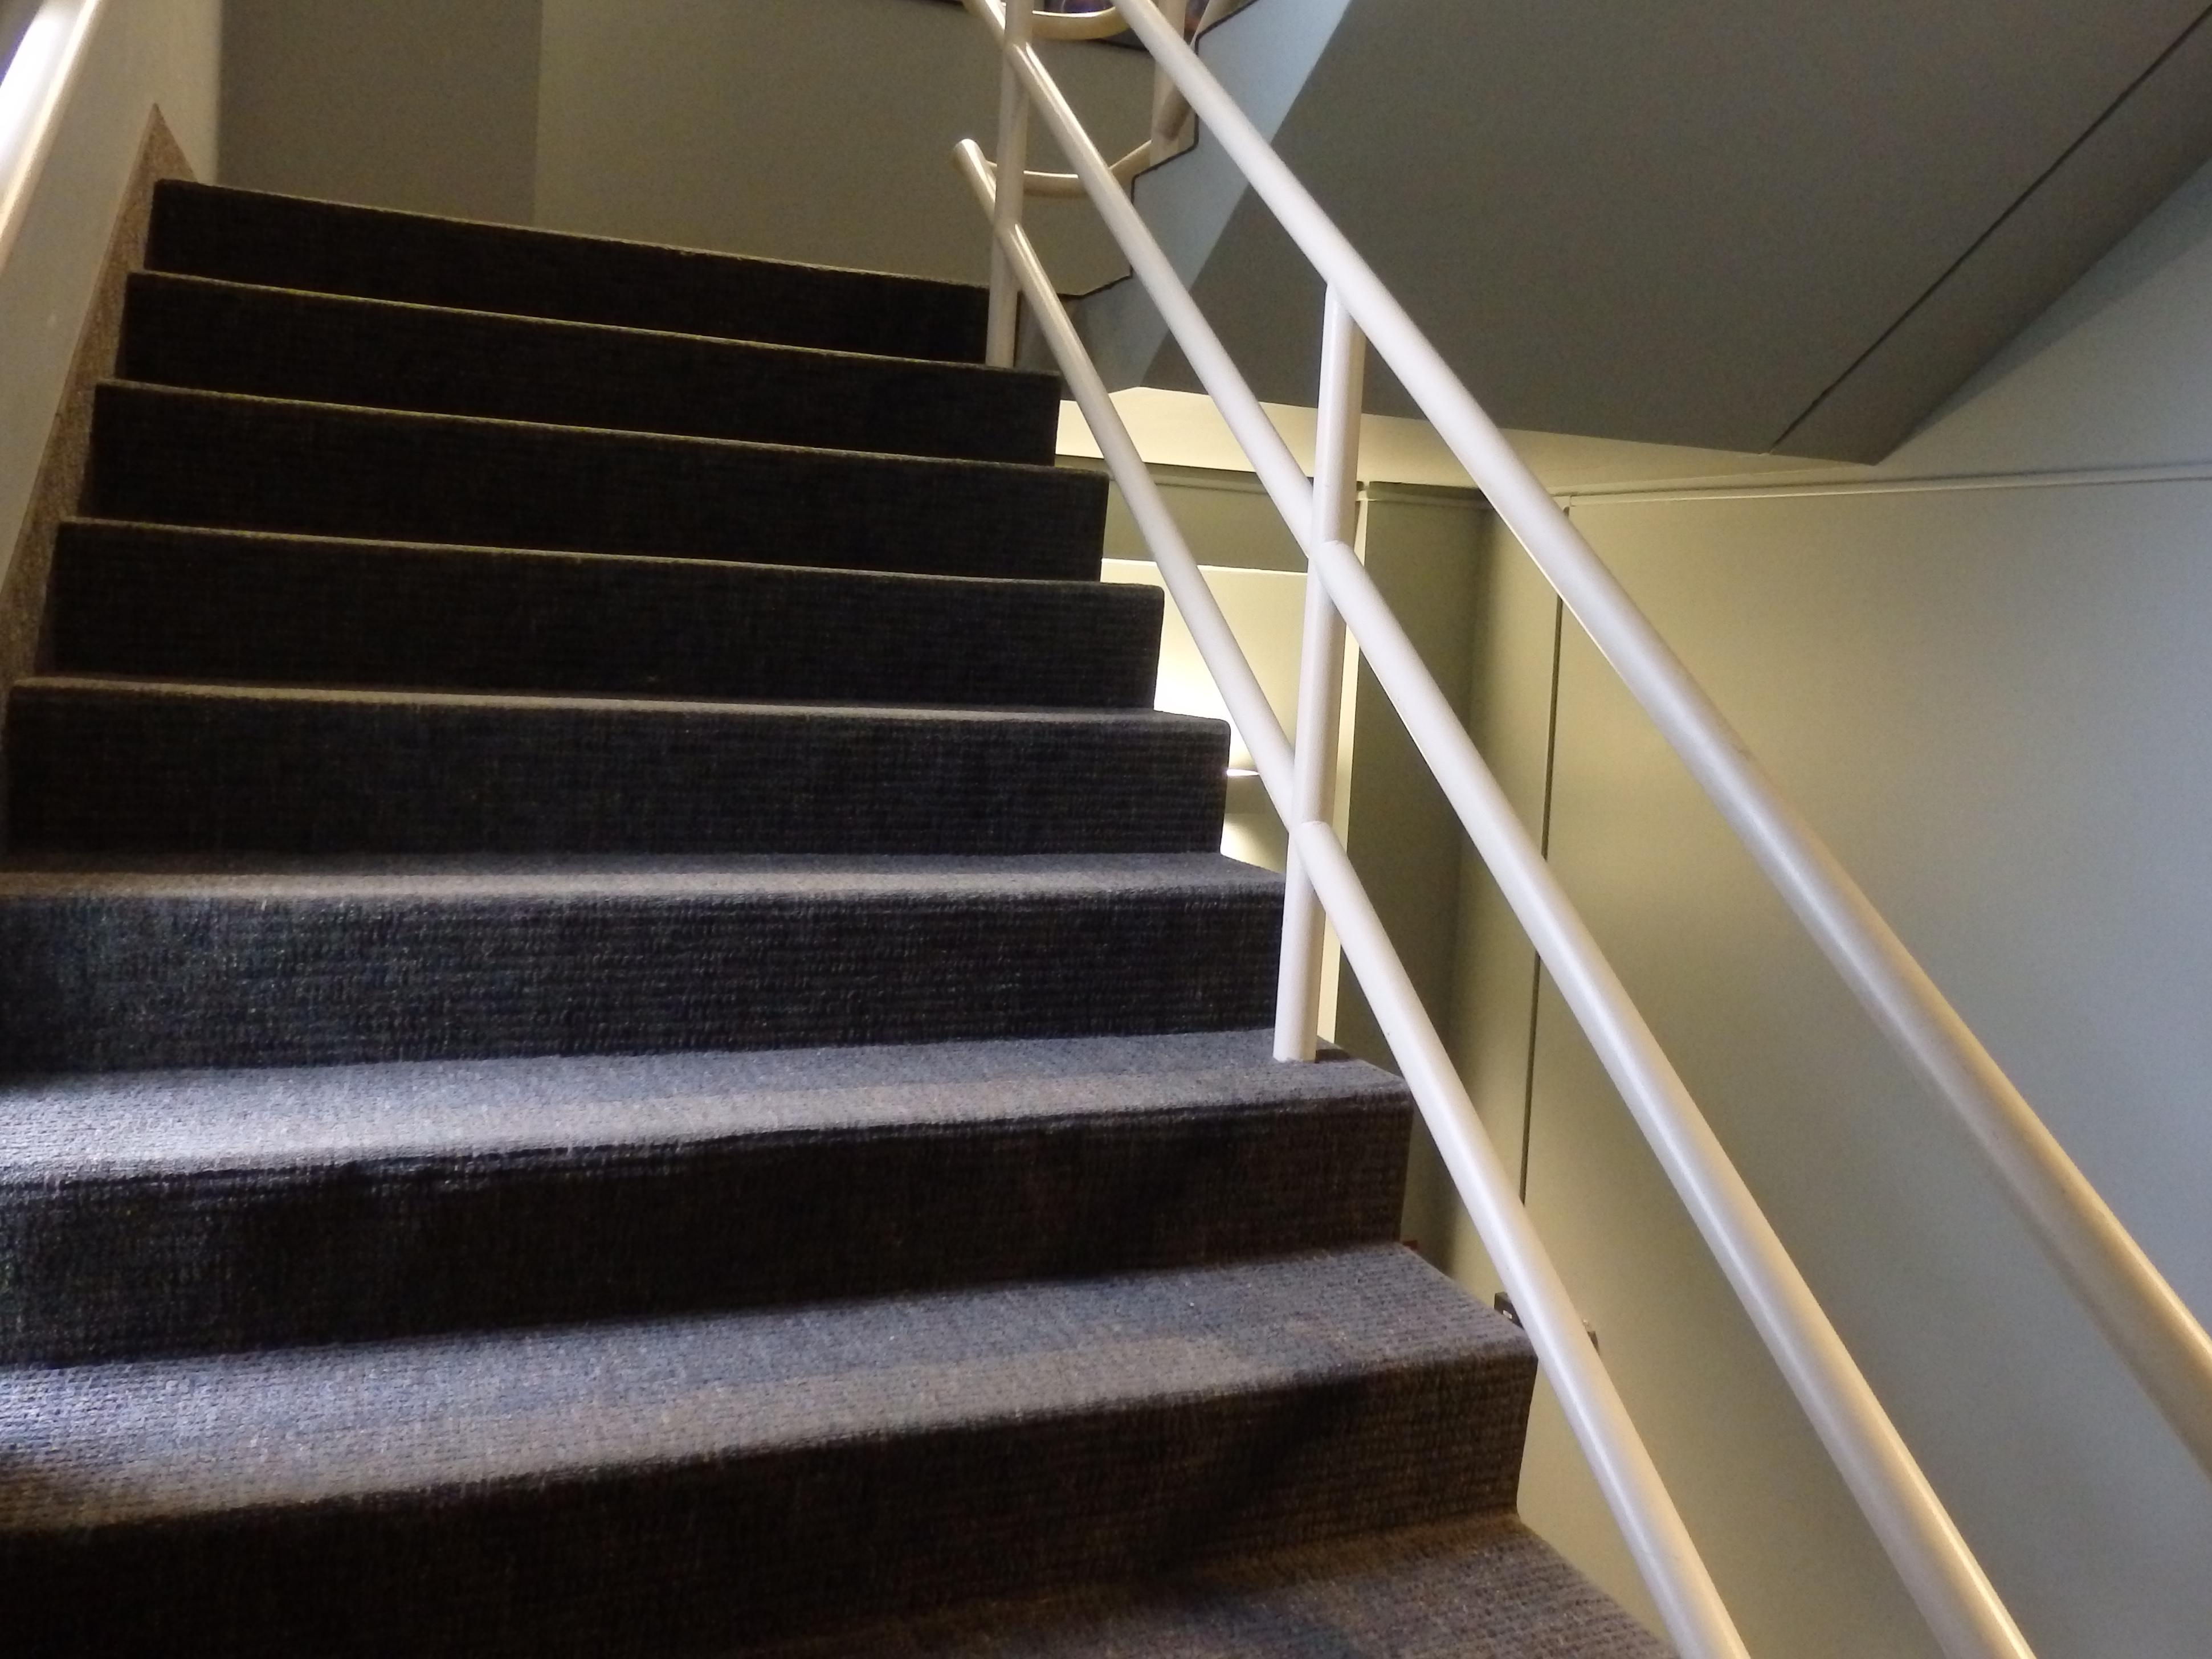stairs_up: (24, 134, 1684, 1659)
